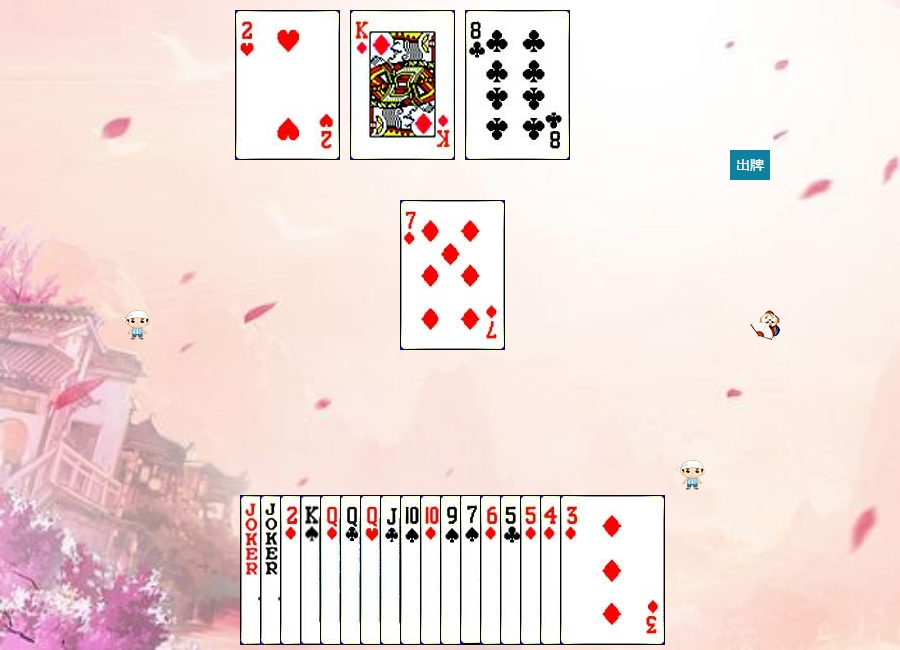10~1: (420, 495, 525, 645)
10~4: (400, 495, 505, 645)
11~2: (380, 495, 485, 645)
12~1: (320, 495, 425, 645)
12~2: (340, 495, 445, 645)
12~3: (360, 495, 465, 645)
13~1: (350, 10, 455, 160)
13~4: (300, 495, 405, 645)
15~1: (280, 495, 385, 645)
15~3: (235, 10, 340, 160)
17~3: (260, 495, 365, 645)
18~4: (240, 495, 345, 645)
3~1: (560, 495, 665, 645)
4~1: (540, 495, 645, 645)
5~1: (520, 495, 625, 645)
5~2: (500, 495, 605, 645)
6~1: (480, 495, 585, 645)
7~1: (400, 200, 505, 350)
7~4: (460, 495, 565, 645)
8~2: (465, 10, 570, 160)
9~4: (440, 495, 545, 645)
